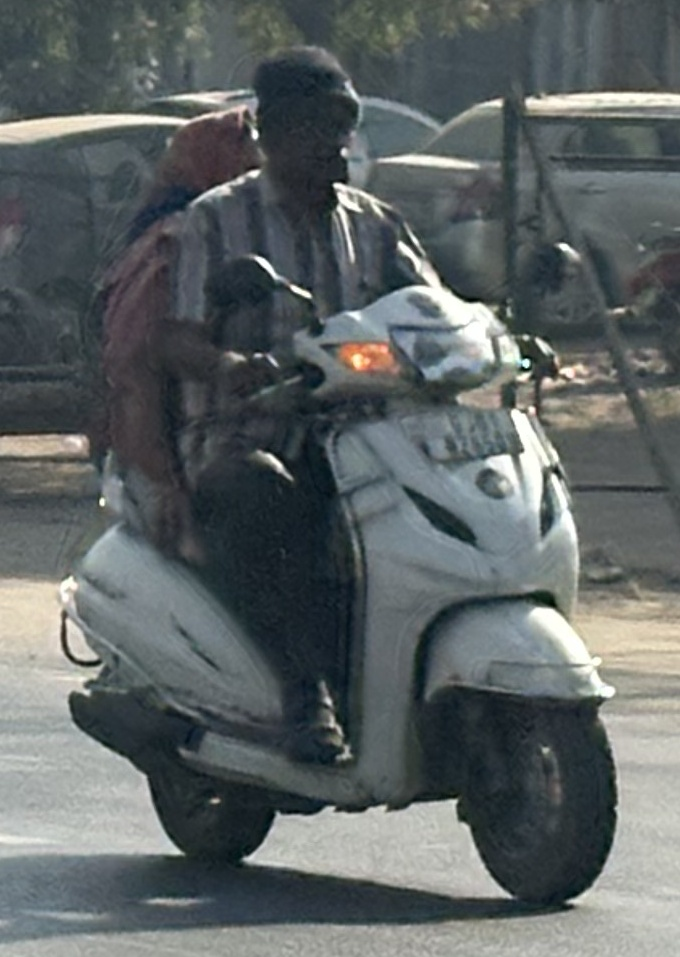BikeWithRider: (40, 29, 631, 911)
NoHelmet: (248, 35, 369, 187), (145, 90, 265, 206)
